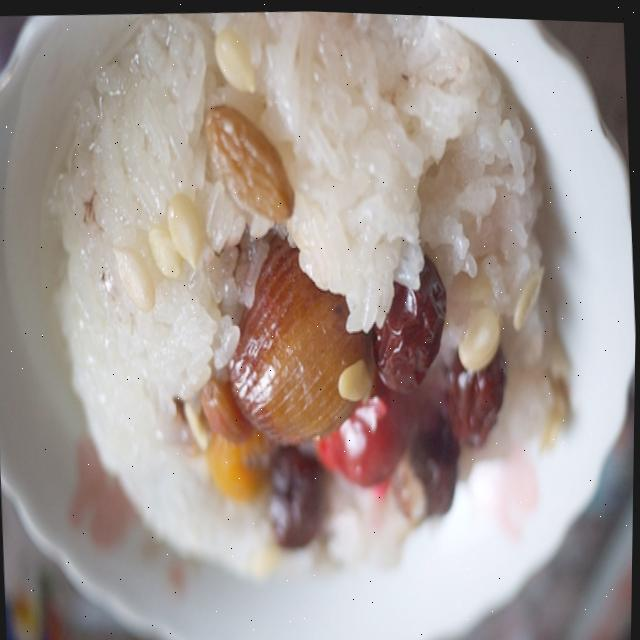米饭主食: (25, 1, 604, 623)
